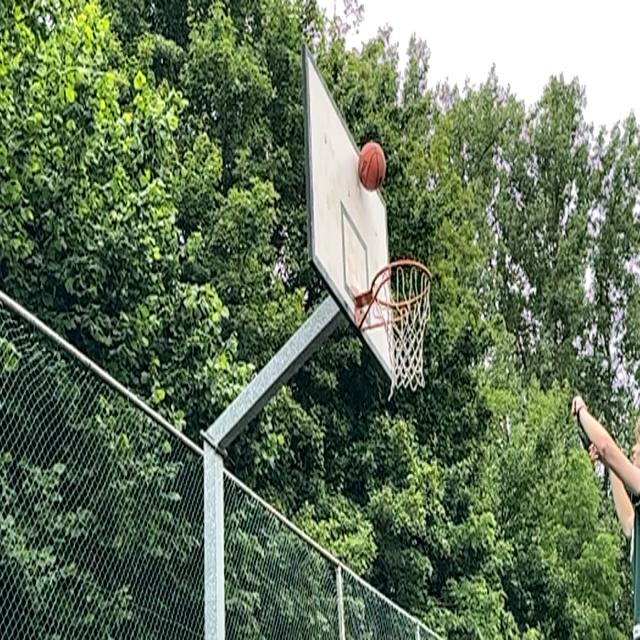rebound_hit: (356, 141, 386, 191)
